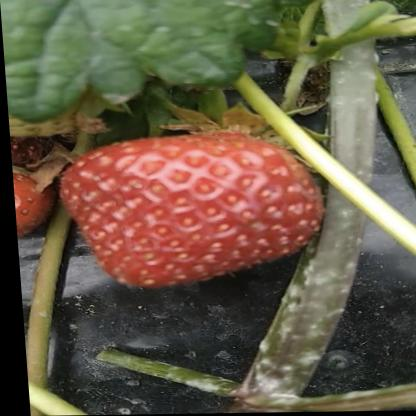ripe: (50, 133, 333, 292), (9, 162, 61, 256)
